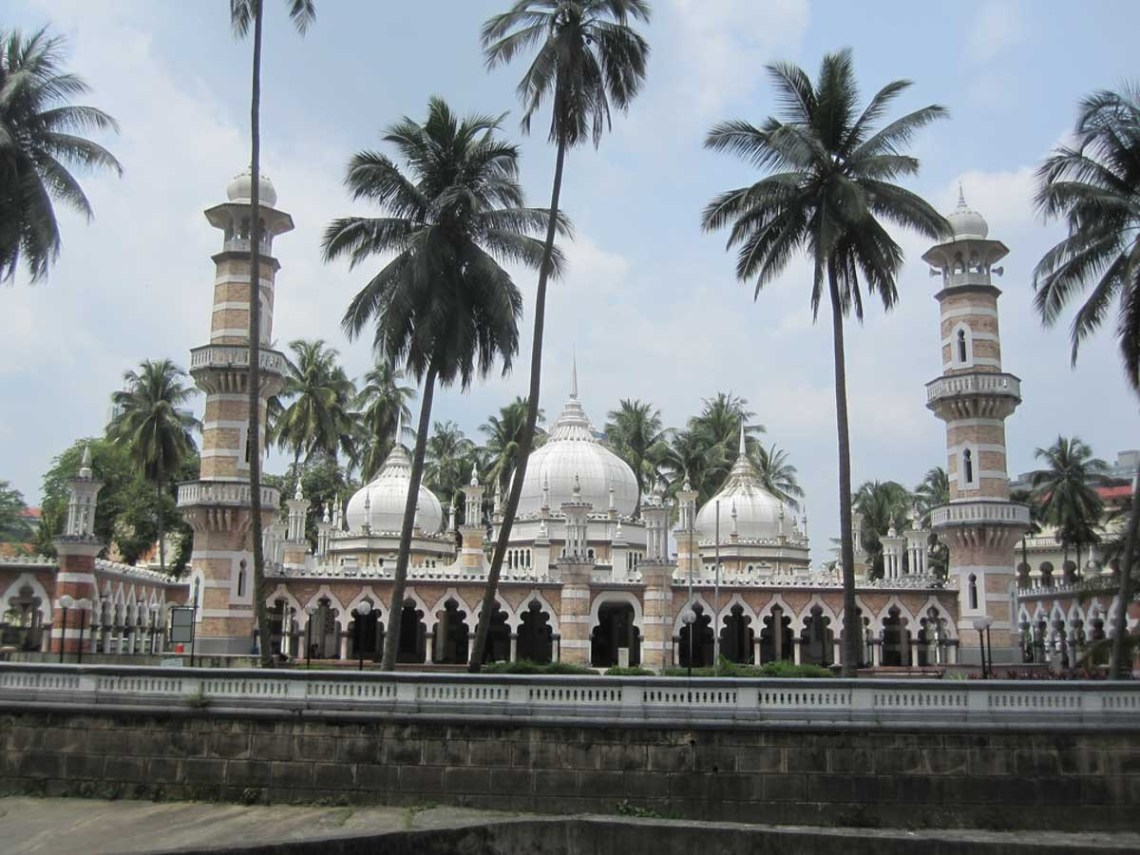Mosque: (9, 156, 1083, 693)
